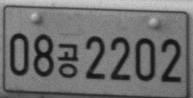0: (134, 37, 155, 81), (9, 32, 29, 76)
2: (160, 37, 182, 83), (109, 35, 131, 80), (84, 35, 105, 79)
8: (32, 32, 54, 77)
공: (57, 42, 78, 78)
